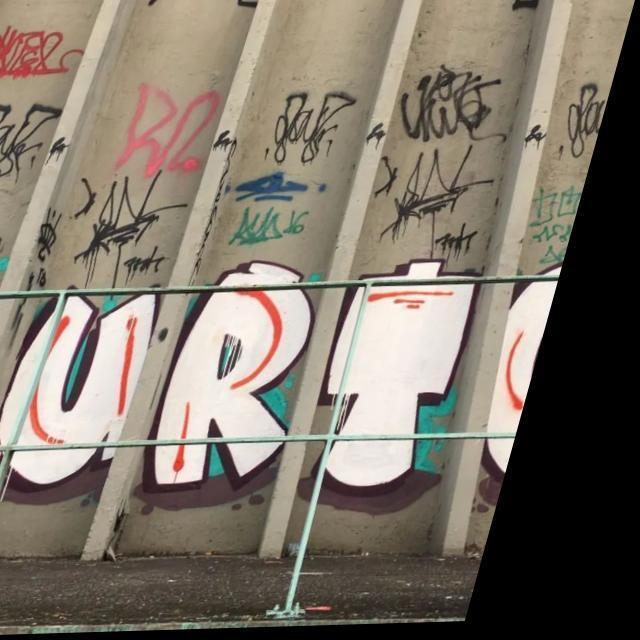nonspitting: (1, 258, 564, 494), (370, 60, 503, 252), (35, 166, 184, 279), (0, 22, 86, 176), (112, 81, 219, 177), (223, 173, 331, 245), (262, 91, 352, 163), (526, 185, 581, 263), (562, 82, 608, 158)
